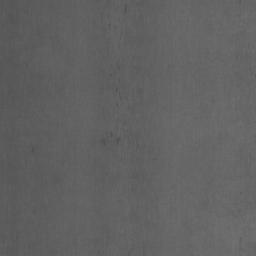Silk spot: (100, 131, 113, 146), (131, 168, 144, 181)
